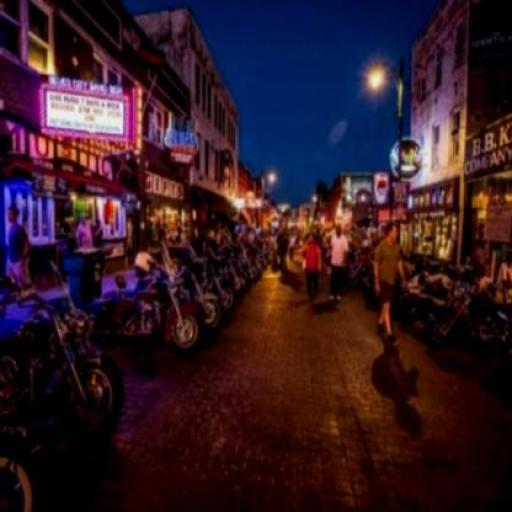street light: (368, 58, 406, 315), (260, 171, 276, 270)
